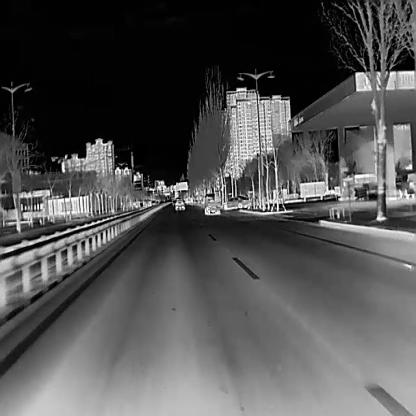car: (222, 195, 248, 210), (173, 196, 184, 210)
truck: (204, 188, 220, 214)
